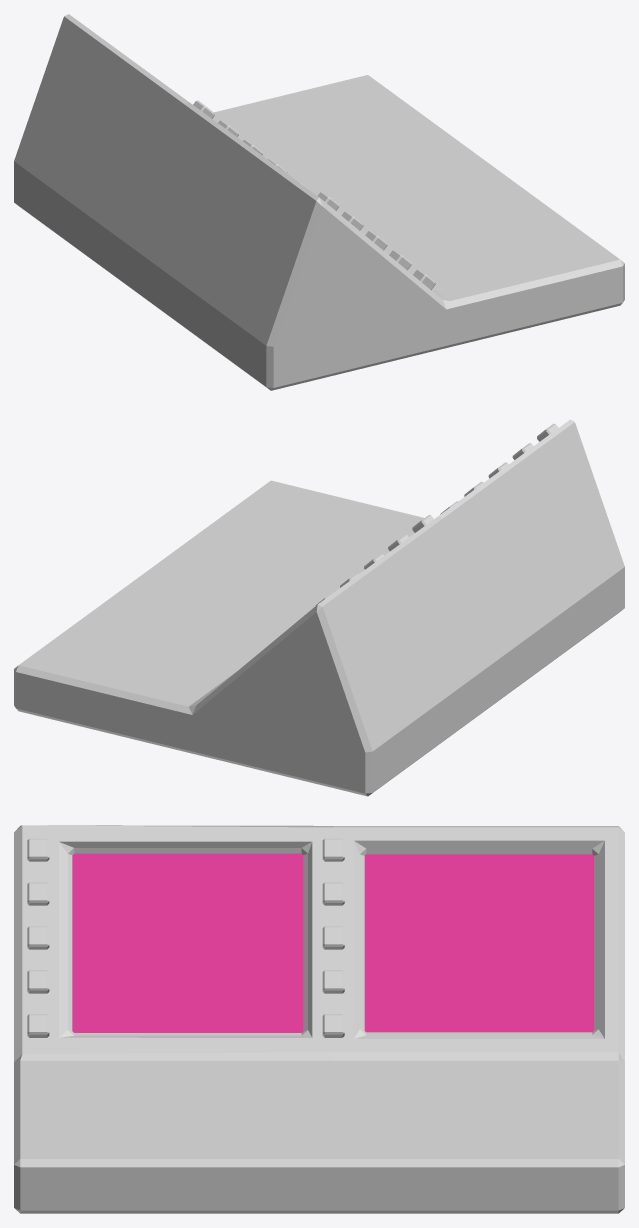
The model's file is right-console.fbx.
3 renders of one model, top to bottom at view 1: azimuth 30°, elevation 25°; view 2: azimuth 150°, elevation 25°; view 3: azimuth 270°, elevation 25°, orthographic. The views are drawn at different scales.
Visible parts, largest first — view 1: panel; view 2: panel; view 3: panel, screen.001, screen.002, button.013, button.008, button.012, button.004, button.005, button.006, button.007, button.009, button.010 (+1 smaller).
Boxes of the visible parts, x1,y1,x2,y2 form: panel: [14, 14, 624, 390]; panel: [14, 419, 624, 796]; panel: [14, 825, 624, 1213]; screen.001: [72, 853, 303, 1032]; screen.002: [364, 854, 593, 1032]; button.013: [27, 1014, 49, 1037]; button.008: [322, 1014, 344, 1037]; button.012: [27, 970, 49, 993]; button.004: [322, 838, 344, 861]; button.005: [322, 882, 344, 905]; button.006: [322, 926, 344, 949]; button.007: [322, 970, 344, 993]; button.009: [27, 838, 49, 861]; button.010: [27, 882, 49, 905].
Size of the model in its own units: 0.5946 by 0.74 by 0.2868.
